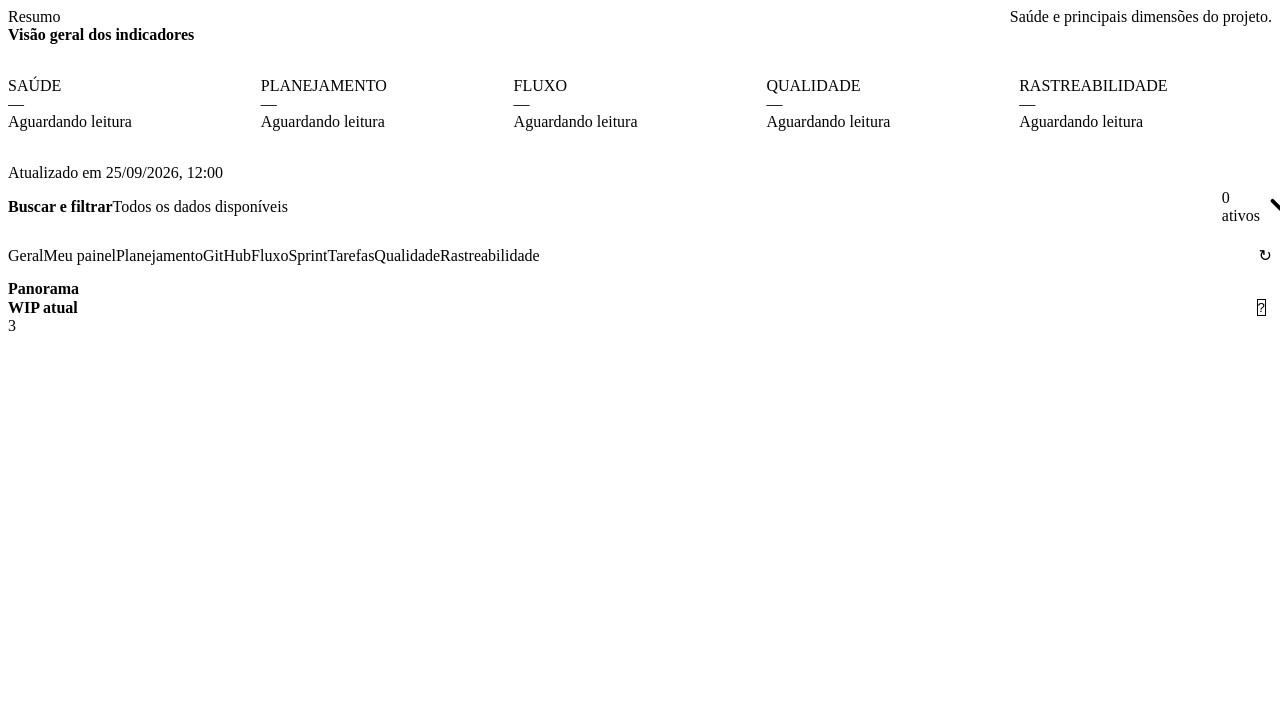
Test: P8 Dashboard na Visão Geral › P8.4 fecha a ajuda com Escape e devolve o foco ao acionador
The width and height of the screenshot is (1280, 720).
expect the element "WIP atual" is shown: met, box x1=8 y1=298 x2=1272 y2=335
Click the button named "Informações sobre WIP atual" at (1261, 308), box x1=1251 y1=298 x2=1272 y2=317
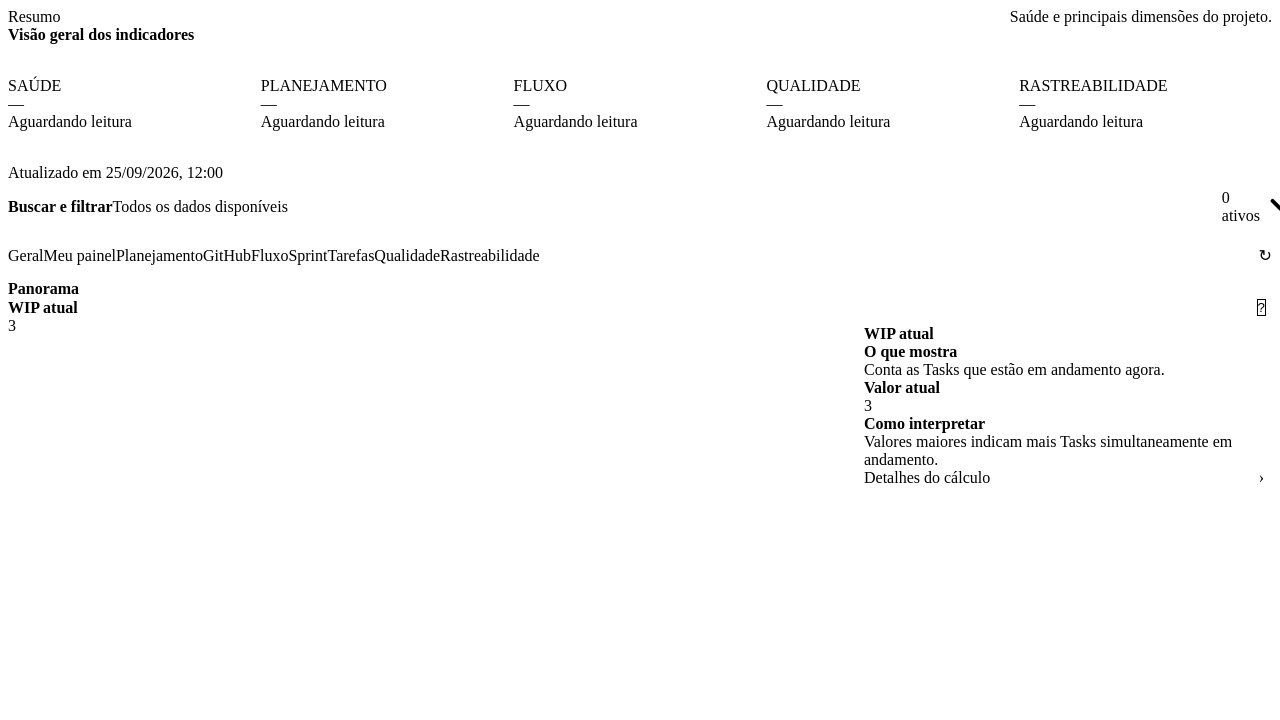
expect the dialog named "Informações sobre WIP atual" is shown: met, box x1=864 y1=325 x2=1264 y2=487
Press Escape
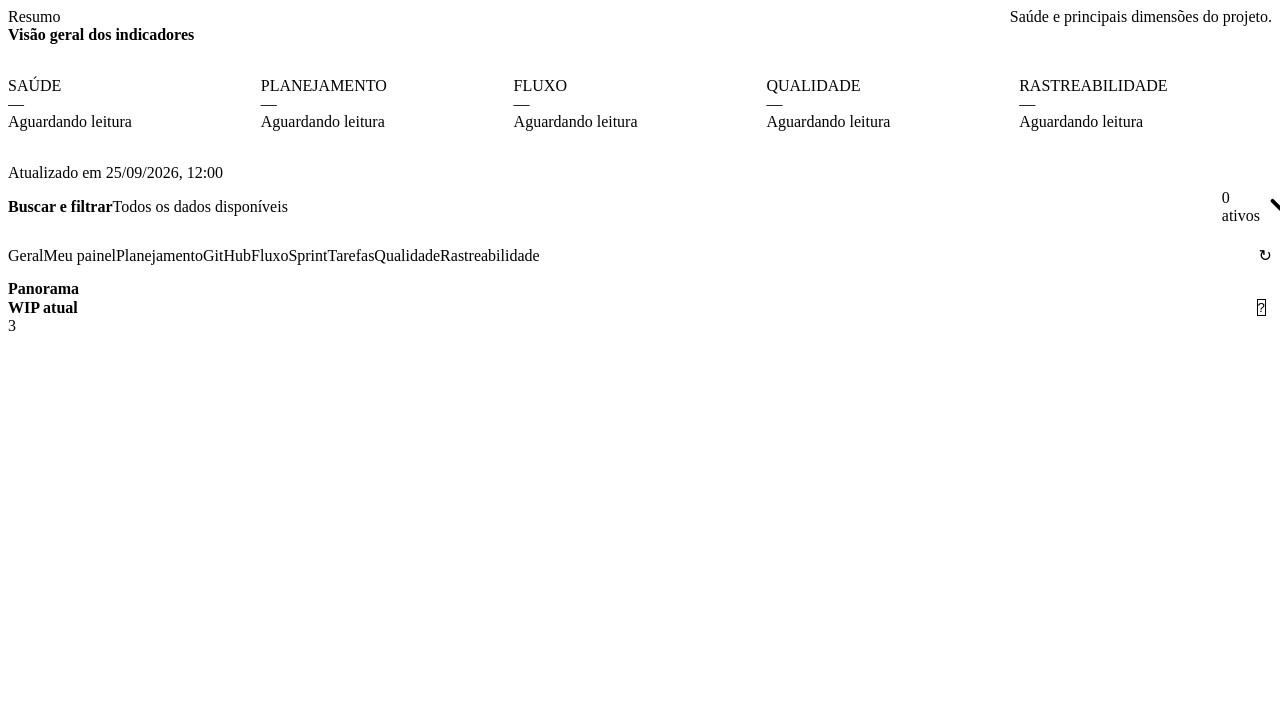
expect the dialog is gone: met
